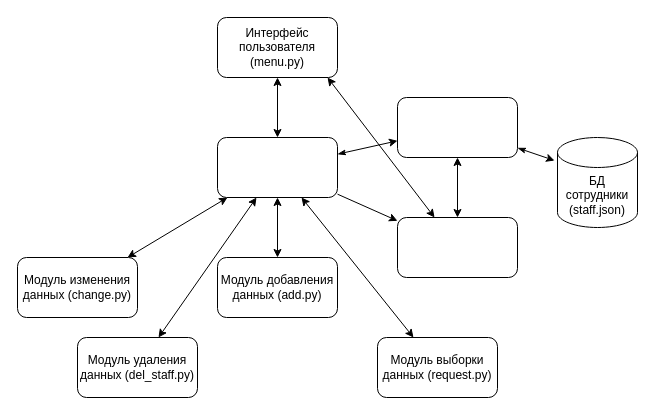
The diagram is 655 pixels wide and 415 high, and some of its shapes have lost their labels. The shapes that lost their labels are listed below. From the top down, each one's box as (x1, y1, x2, y2) in pixels, then its label:
(396, 96, 518, 158): Модуль сохранения и загрузки (bd_json.py)
(216, 136, 338, 198): Главный модуль (main.py)
(396, 216, 518, 278): Модуль логирования (logger.py)
